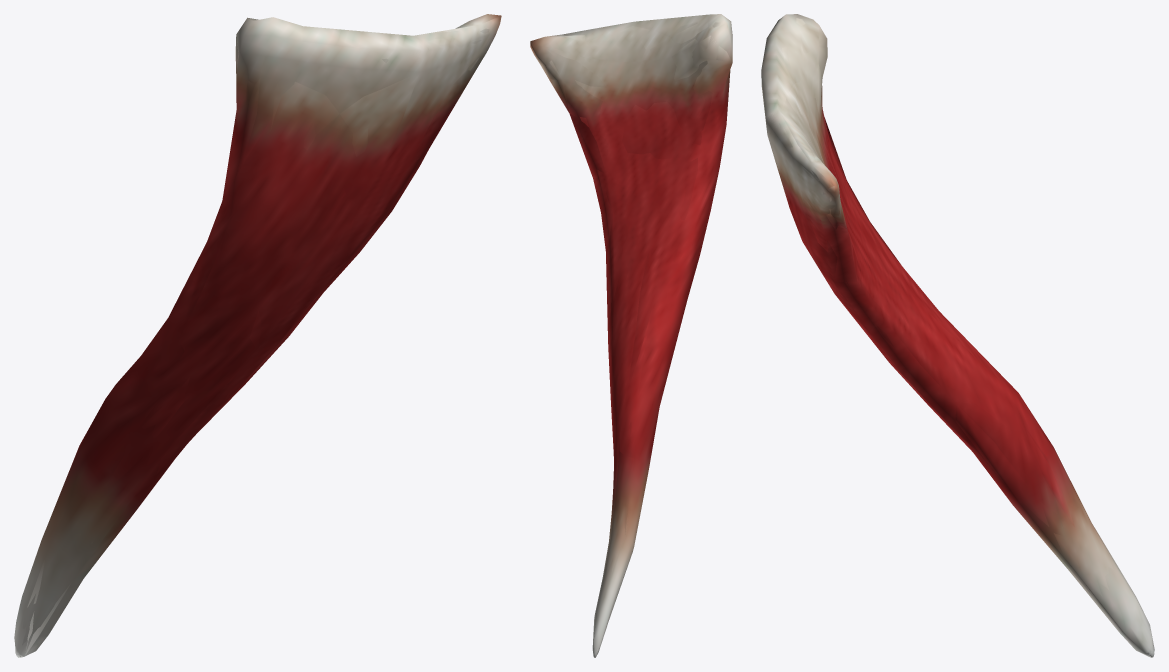
Rendered from R Cleidobrachialis.fbx.
3 renders of one model, left to right at view 1: azimuth 30°, elevation 25°; view 2: azimuth 150°, elevation 25°; view 3: azimuth 270°, elevation 25°, orthographic. The views are drawn at different scales.
Visible parts, largest first — view 1: R Cleidobrachialis, R Cleidobrachialis low, R Cleidobrachialis high; view 2: R Cleidobrachialis, R Cleidobrachialis low, R Cleidobrachialis high; view 3: R Cleidobrachialis, R Cleidobrachialis low, R Cleidobrachialis high.
Boxes of the visible parts, bbox=[...] form: R Cleidobrachialis: bbox=[14, 14, 501, 657]; R Cleidobrachialis low: bbox=[24, 14, 500, 656]; R Cleidobrachialis high: bbox=[15, 23, 490, 656]; R Cleidobrachialis: bbox=[530, 14, 732, 657]; R Cleidobrachialis low: bbox=[531, 14, 732, 647]; R Cleidobrachialis high: bbox=[543, 21, 727, 651]; R Cleidobrachialis: bbox=[761, 14, 1154, 657]; R Cleidobrachialis low: bbox=[761, 14, 1152, 647]; R Cleidobrachialis high: bbox=[764, 18, 1153, 656].
Bounding box in the file's own units: 2.89 × 7.17 × 3.9.
1 material, 1 textured.
